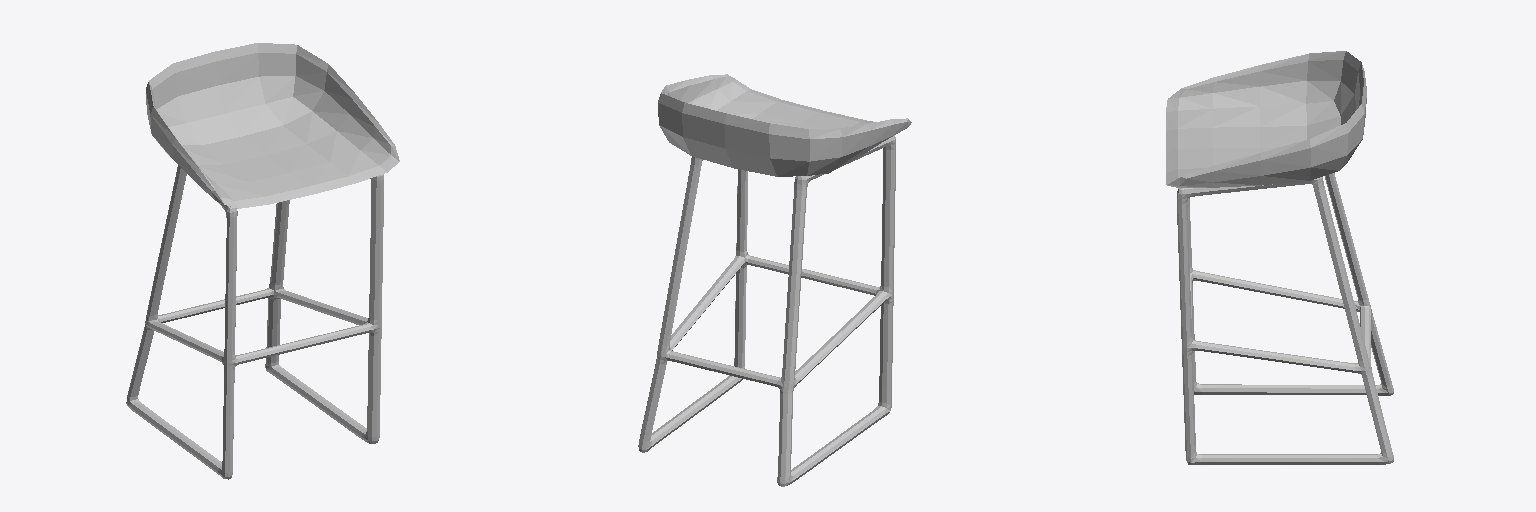
File: Chairs2.obj
3 views of the same model, side by side, from view 1: azimuth 30°, elevation 25°; view 2: azimuth 150°, elevation 25°; view 3: azimuth 270°, elevation 25° (orthographic).
Parts seen in each view (by area): view 1: Plane.149_Plane.074; view 2: Plane.149_Plane.074; view 3: Plane.149_Plane.074.
Part boxes in pixels (x1,y1,x2,y2): Plane.149_Plane.074: (126,43,399,479); Plane.149_Plane.074: (638,74,911,486); Plane.149_Plane.074: (1166,51,1393,464).
Size of the model in its own units: 0.7794 by 1.39 by 0.8281.